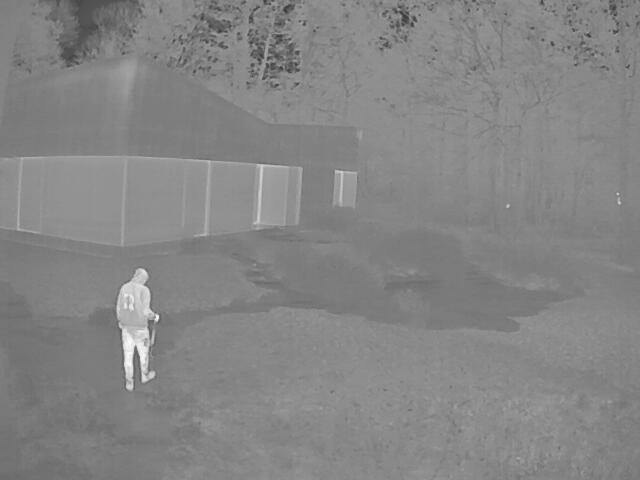person: (117, 266, 160, 395)
